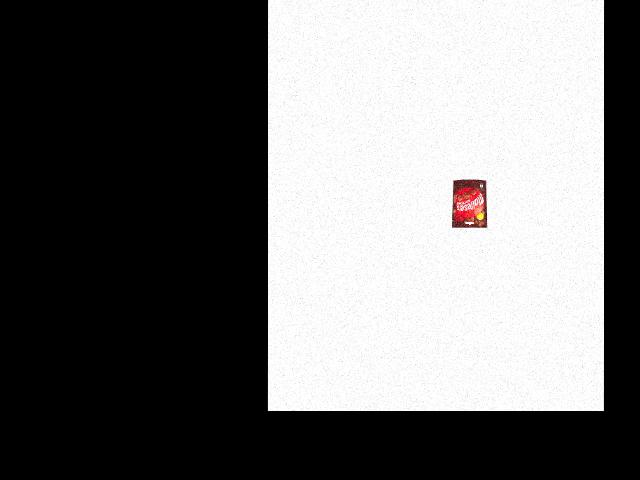chocolate: (451, 178, 487, 228)
